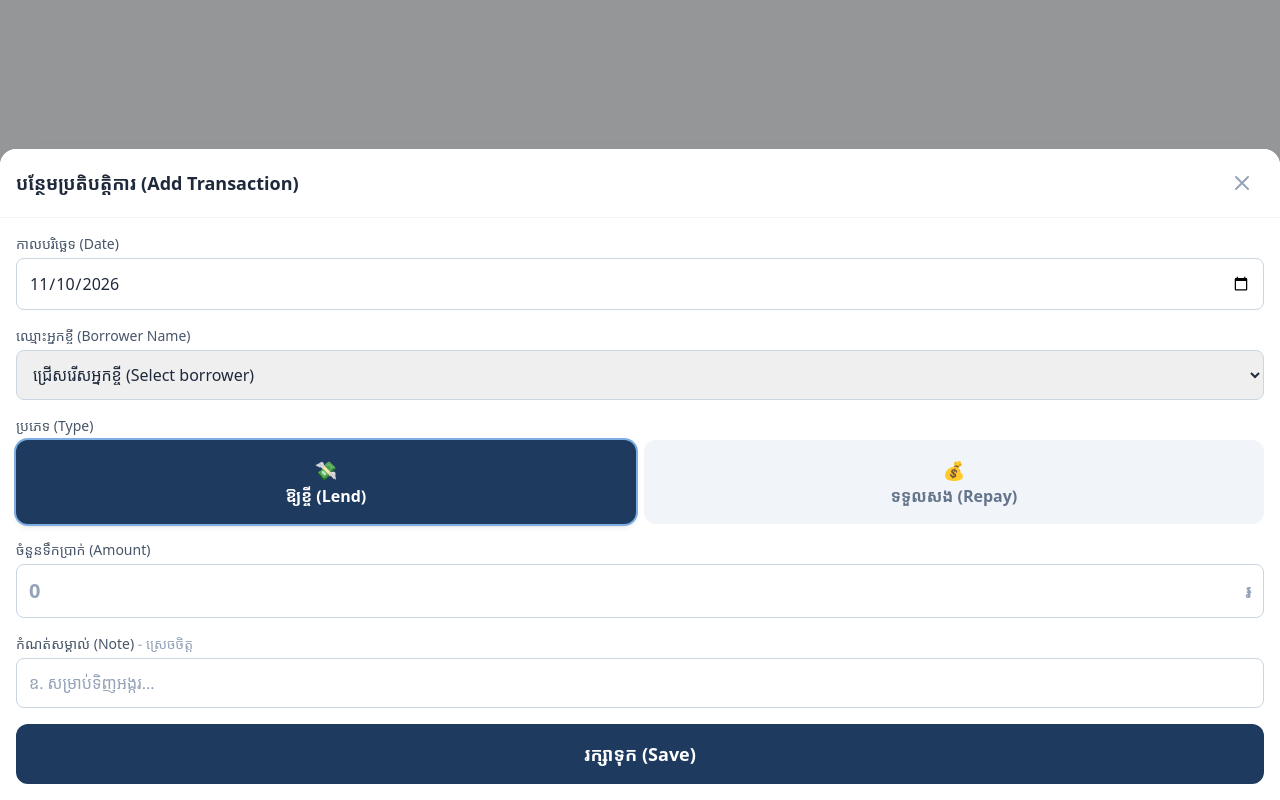
Test: Integration Test: TransactionForm User Interactions & Safety Gates › locks the Save button while saving is in progress to prevent duplicate submissions
The image size is (1280, 800).
Select "សុខ គង់" in the dropdown labelled "ឈ្មោះអ្នកខ្ចី (Borrower Name)" at x=640, y=375, box [16,350,1264,400]
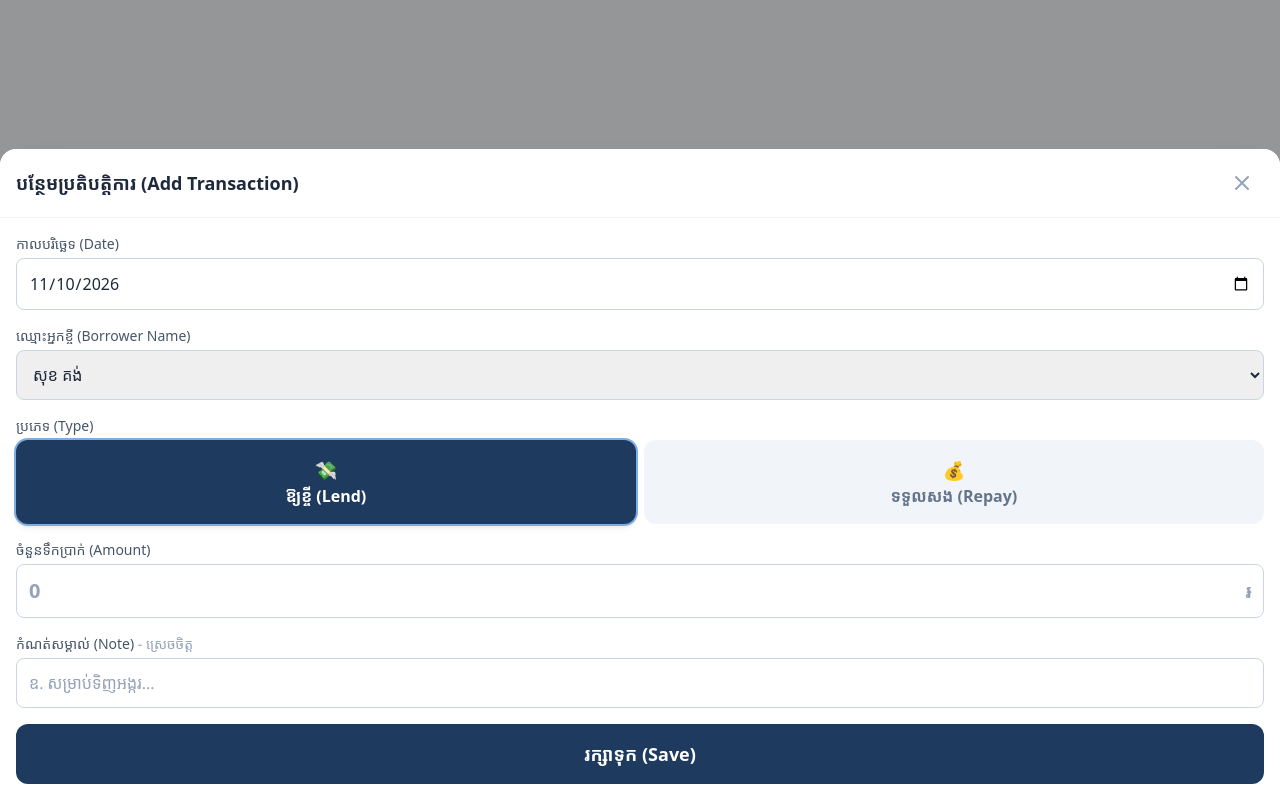
Type "200000" into the field labelled "ចំនួនទឹកប្រាក់ (Amount)" at x=640, y=591, box [16,564,1264,618]
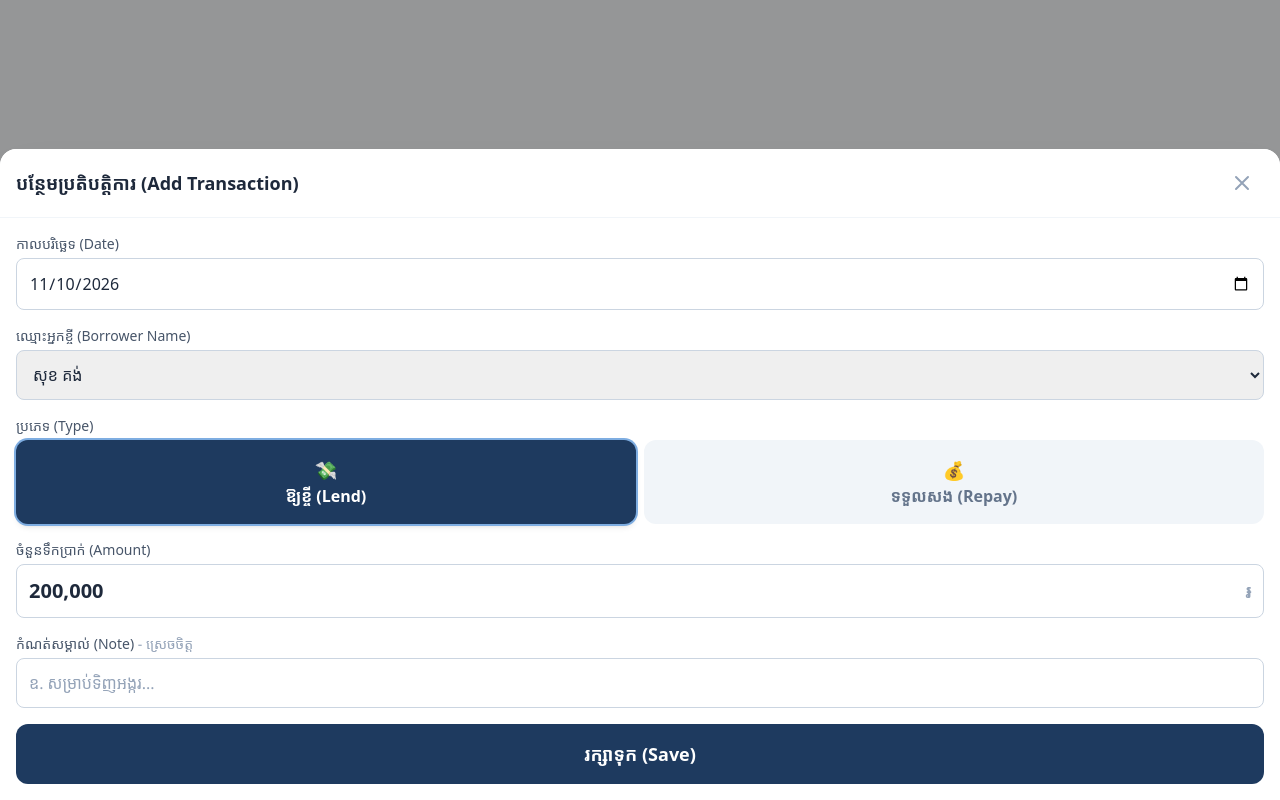
Click submit
Click the button "រក្សាទុក (Save)" at x=640, y=754, box [16,724,1264,784]
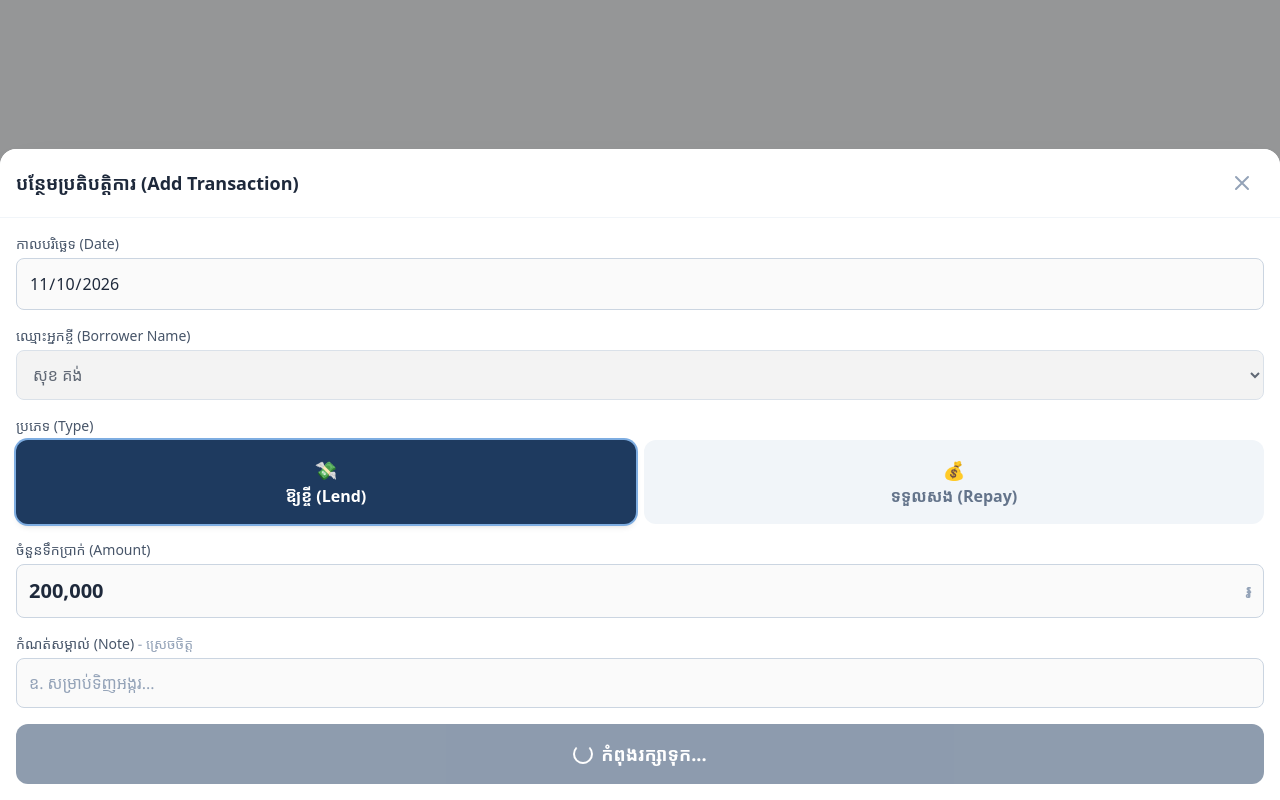
Expected: the button named "រក្សាទុក (Save)" is disabled
Expected: the text "កំពុងរក្សាទុក..." is shown, [573,740,707,768]
Clicking again should not trigger another save
Click the button named "រក្សាទុក (Save)" at x=640, y=754, box [16,724,1264,784]
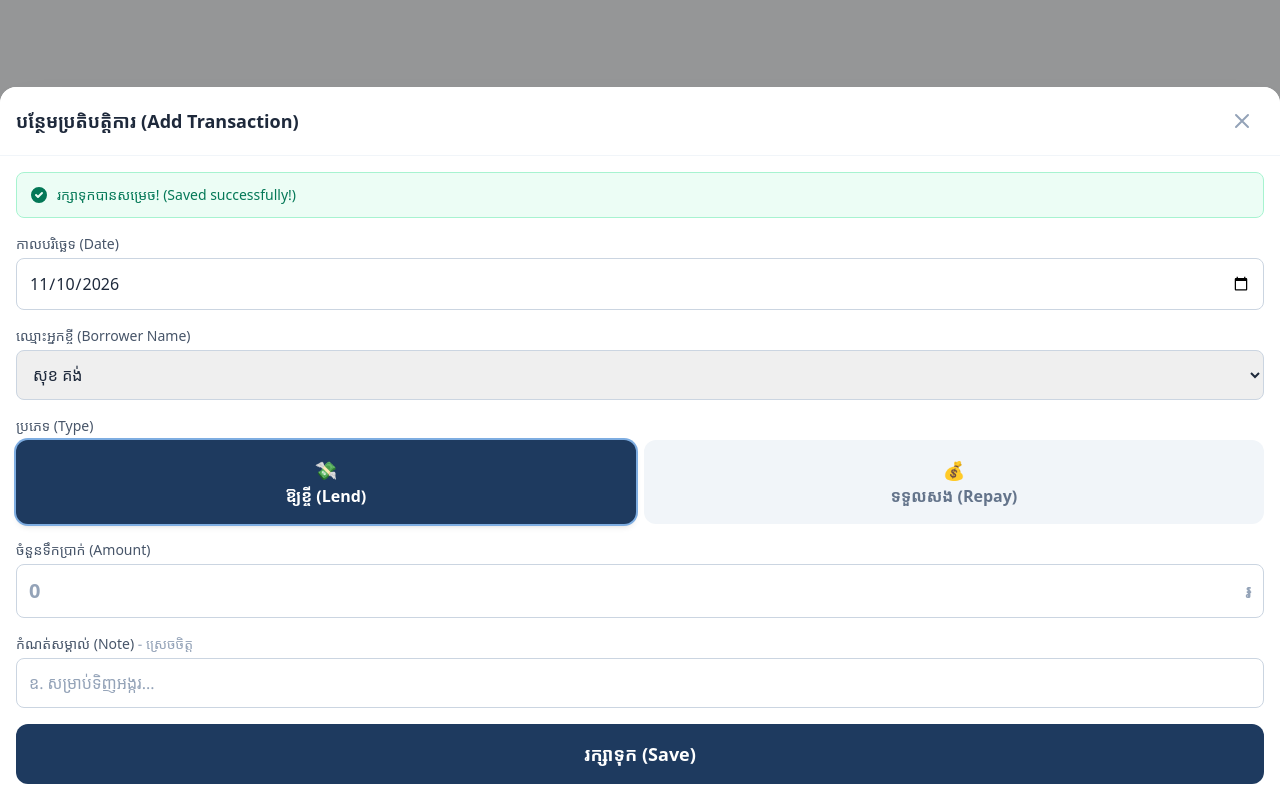
Expected: the text "រក្សាទុកបានសម្រេច! (Saved successfully!)" is shown, [16,172,1264,218]
